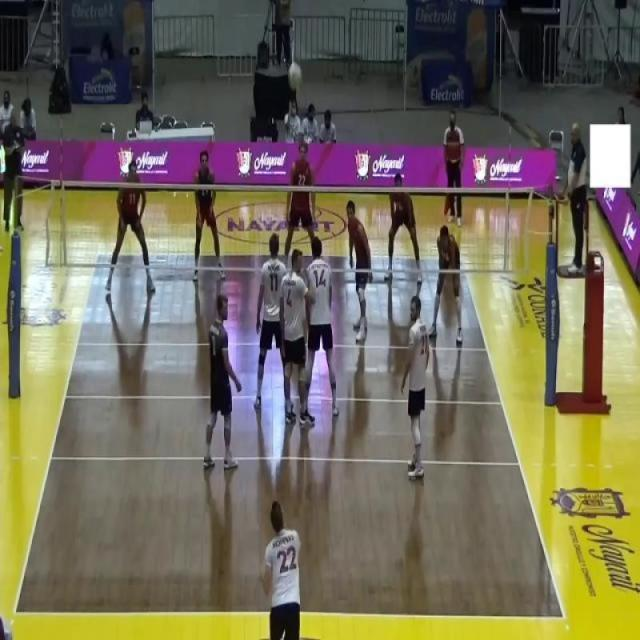volleyball: (288, 60, 302, 90)
